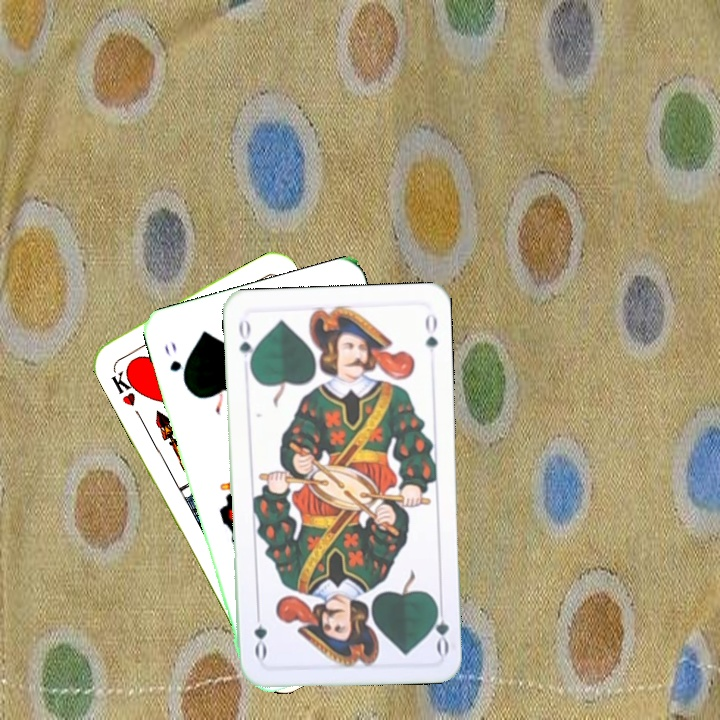GO: (160, 338, 189, 389), (427, 597, 451, 656), (235, 315, 258, 373)
HK: (107, 361, 144, 409)
